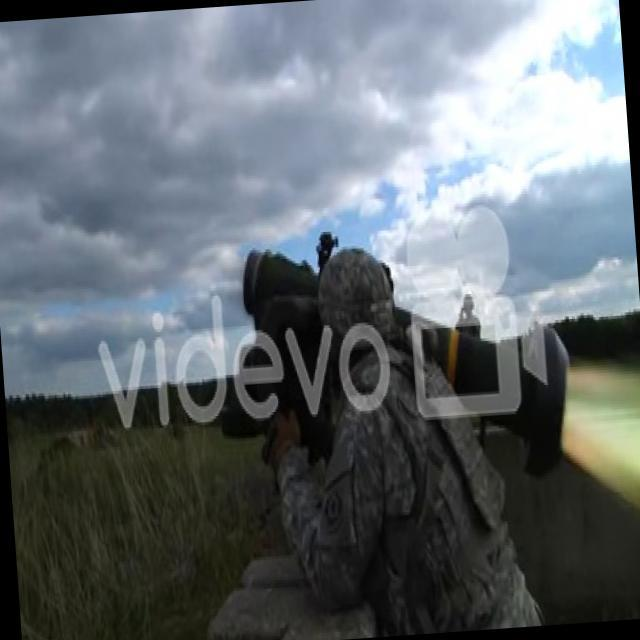rocket: (240, 228, 575, 482)
